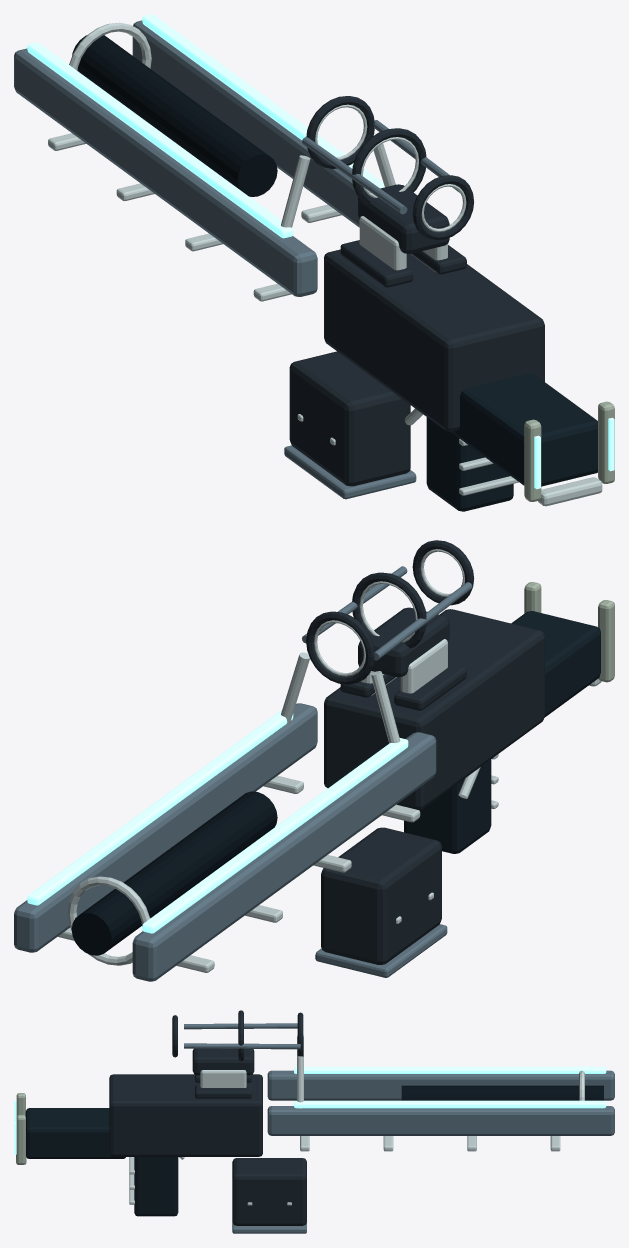
The model's file is weapon-2.glb.
The picture shows the model from 3 angles, top to bottom: view 1: azimuth 30°, elevation 25°; view 2: azimuth 150°, elevation 25°; view 3: azimuth 270°, elevation 25°; orthographic projection. The views are drawn at different scales.
Parts seen in each view (by area): view 1: body-dark, body-light, body-rubber, feed-dark, barrel-assembly-cavity, body-trim, body-glow, body-ceramic, feed-light; view 2: body-dark, body-light, feed-dark, barrel-assembly-cavity, body-glow, body-trim, body-rubber, feed-light, body-ceramic; view 3: body-light, body-dark, body-rubber, body-glow, feed-dark, barrel-assembly-cavity, body-trim, body-ceramic, feed-light.
Boxes of the visible parts, left/top/right/bottom form: body-dark: left=306, top=96, right=544, bottom=431; body-light: left=14, top=20, right=460, bottom=296; body-rubber: left=426, top=373, right=597, bottom=511; feed-dark: left=289, top=351, right=410, bottom=486; barrel-assembly-cavity: left=72, top=35, right=277, bottom=196; body-trim: left=48, top=22, right=602, bottom=506; body-glow: left=27, top=14, right=614, bottom=489; body-ceramic: left=524, top=401, right=614, bottom=501; feed-light: left=284, top=445, right=416, bottom=499; body-dark: left=306, top=540, right=544, bottom=809; body-light: left=14, top=566, right=472, bottom=981; feed-dark: left=321, top=827, right=441, bottom=964; barrel-assembly-cavity: left=71, top=791, right=277, bottom=955; body-glow: left=27, top=710, right=408, bottom=933; body-trim: left=58, top=549, right=601, bottom=972; body-rubber: left=404, top=611, right=600, bottom=853; feed-light: left=315, top=924, right=447, bottom=977; body-ceramic: left=524, top=582, right=614, bottom=682; body-light: left=184, top=1023, right=614, bottom=1135; body-dark: left=109, top=1010, right=303, bottom=1156; body-rubber: left=25, top=1108, right=178, bottom=1216; body-glow: left=14, top=1066, right=606, bottom=1154; feed-dark: left=232, top=1158, right=306, bottom=1225; barrel-assembly-cavity: left=401, top=1085, right=603, bottom=1100; body-trim: left=16, top=1034, right=584, bottom=1204; body-ceramic: left=16, top=1093, right=25, bottom=1164; feed-light: left=232, top=1222, right=306, bottom=1233.
Size of the model in its own units: 0.257 by 0.541 by 1.37.
